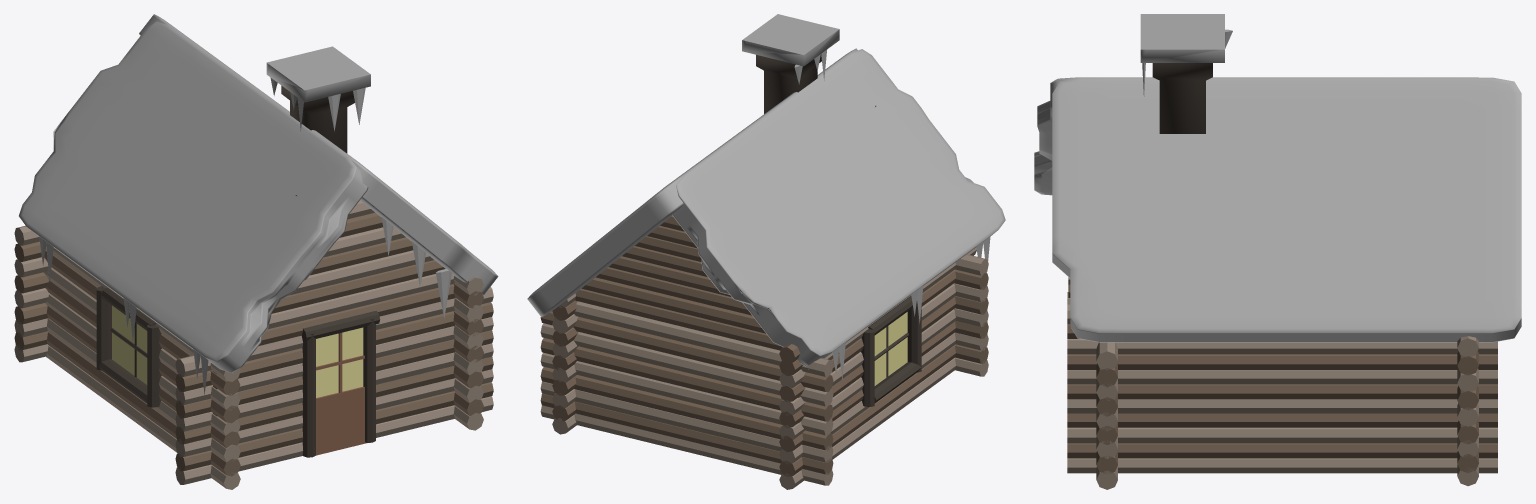
File: snow_house.fbx
3 renders of one model, left to right at view 1: azimuth 30°, elevation 25°; view 2: azimuth 150°, elevation 25°; view 3: azimuth 270°, elevation 25°, orthographic. The views are drawn at different scales.
Parts seen in each view (by area): view 1: pCube13; view 2: pCube13; view 3: pCube13.
Boxes of the visible parts, x1,y1,x2,y2 form: pCube13: [14, 14, 498, 489]; pCube13: [527, 14, 1005, 489]; pCube13: [1034, 14, 1521, 489].
Size of the model in its own units: 5.08 by 5.49 by 6.3.
